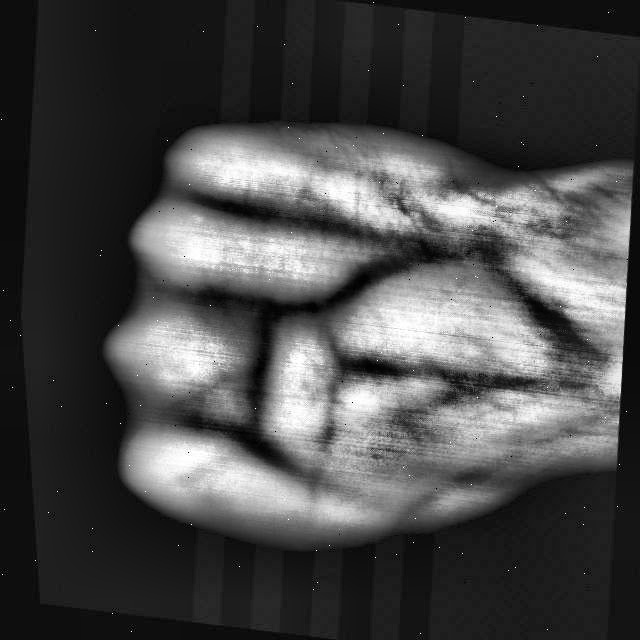Vein: (272, 231, 448, 334)
